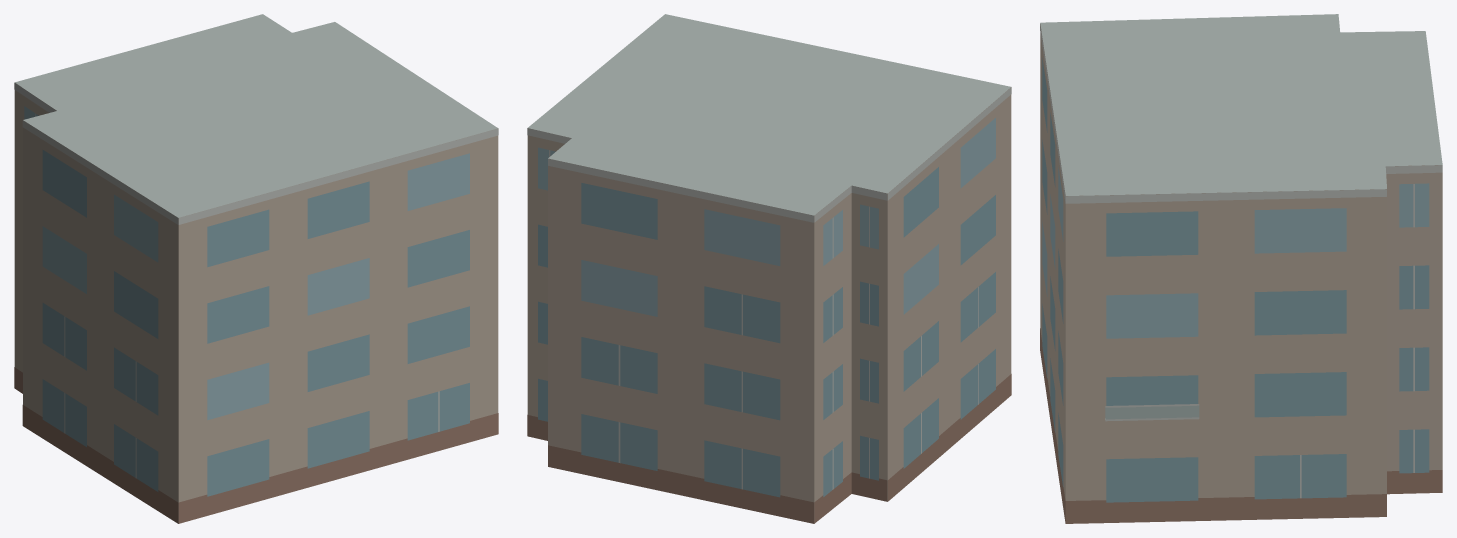
Rendered from survey-upis-32777986.glb.
3 renders of one model, left to right at view 1: azimuth 30°, elevation 25°; view 2: azimuth 150°, elevation 25°; view 3: azimuth 270°, elevation 25°, orthographic. The views are drawn at different scales.
Parts seen in each view (by area): view 1: survey-upis-32777986.tmp; view 2: survey-upis-32777986.tmp; view 3: survey-upis-32777986.tmp.
Part boxes in pixels (x1,y1,x2,y2): survey-upis-32777986.tmp: [14, 14, 498, 523]; survey-upis-32777986.tmp: [527, 14, 1011, 523]; survey-upis-32777986.tmp: [1040, 14, 1442, 523].
Size of the model in its own units: 12.34 by 10.35 by 11.53.
